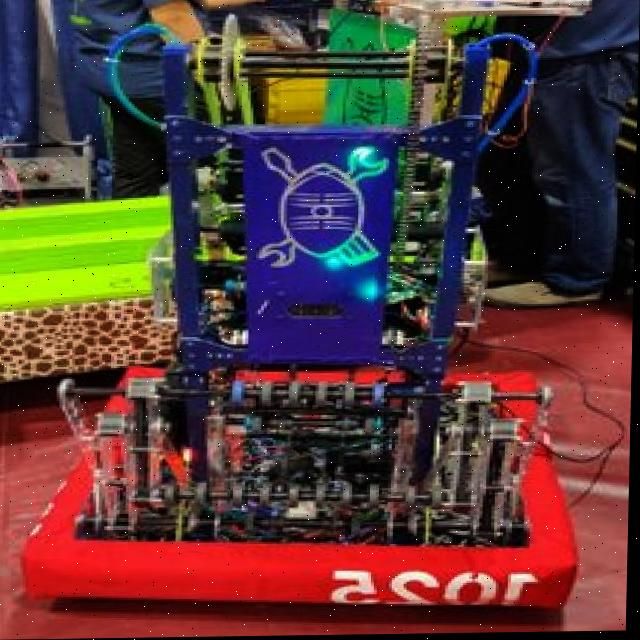robot: (0, 4, 622, 629)
